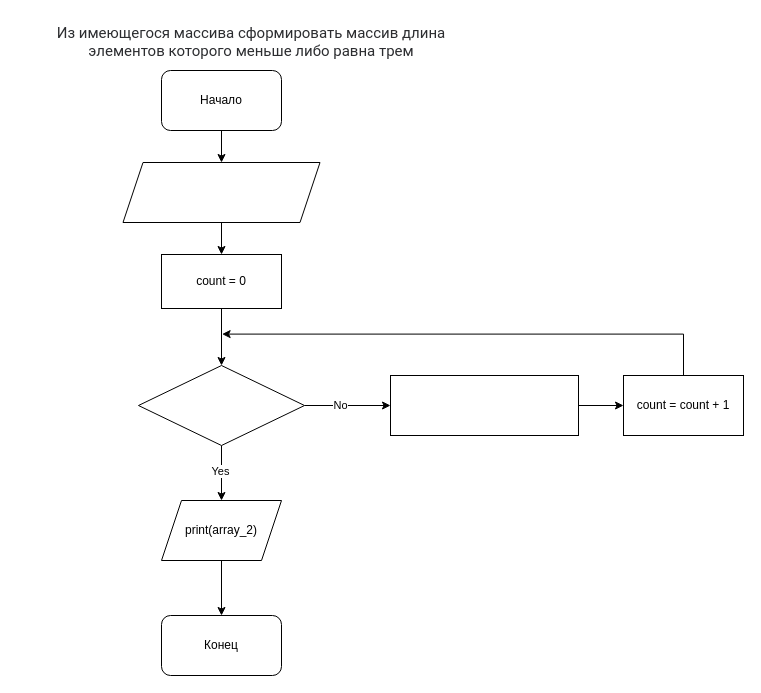
This 761x693 diagram has some shape labels left out. The centre of each missing label's shape, as x and y in pixels:
"array_1[i] array_2 = array_1[i].Length" goes at [221,192].
"array_1[i].Length < = 3" goes at [221,405].
"array_2[count] = array_1[i] + count" goes at [484,405].
